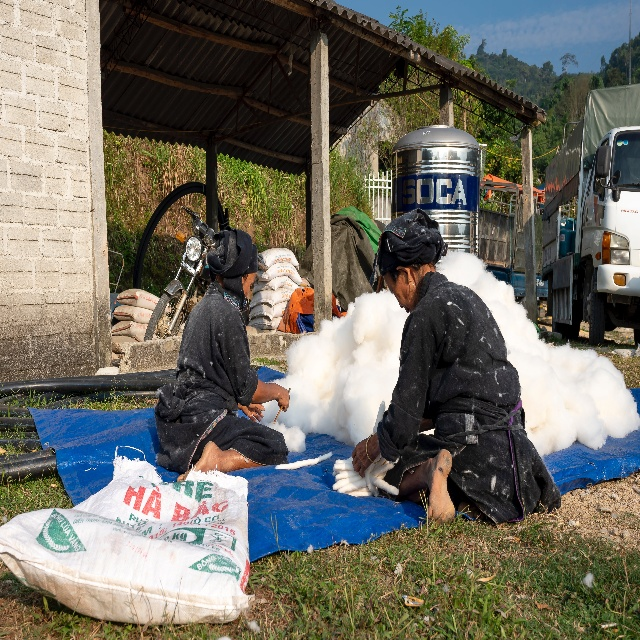Sin_guantes: (351, 436, 375, 477), (239, 399, 266, 424), (277, 382, 289, 413)
